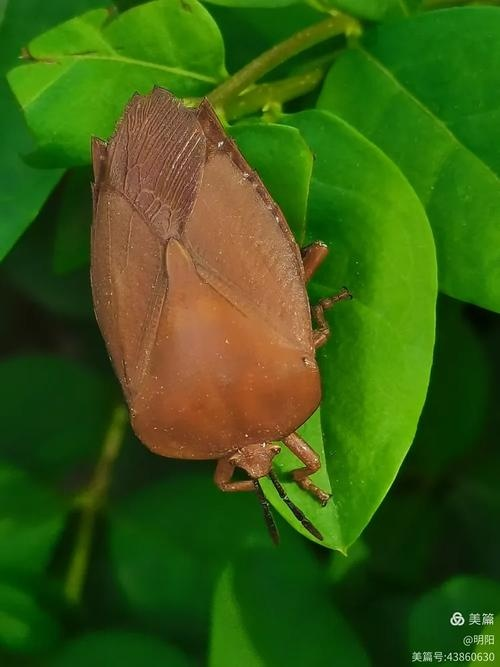Stink_Bug: (72, 97, 350, 493)
